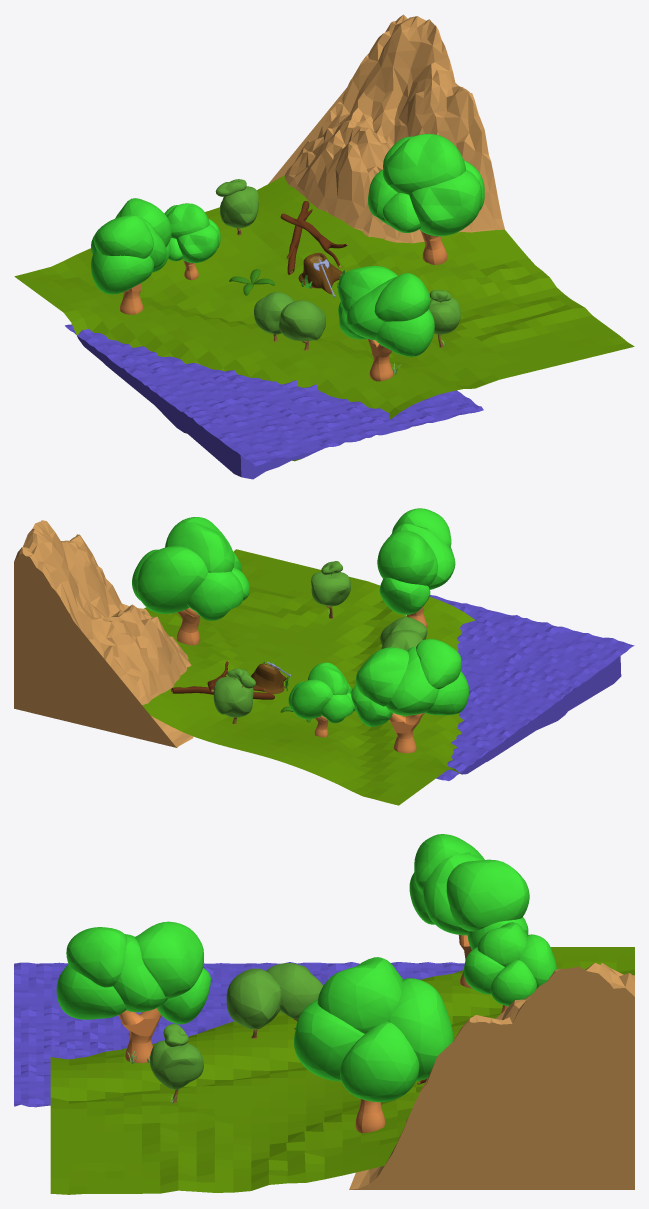
Rendered from scene_forest_1.fbx.
3 renders of one model, top to bottom at view 1: azimuth 30°, elevation 25°; view 2: azimuth 150°, elevation 25°; view 3: azimuth 270°, elevation 25°, orthographic. The views are drawn at different scales.
Visible parts, largest first — view 1: Water, Mounting_1, OakTree3.001, OakTree1.001, OakTree1, OakTree3, Bush_3, Bush_1, Bush_2, Bush_1.001, Log_3; view 2: Water, Mounting_1, OakTree3.001, OakTree1, OakTree1.001, OakTree3, Bush_3, Bush_2, Log_3, Bush_1, Bush_1.001, Log_1; view 3: Water, Mounting_1, OakTree3.001, OakTree1.001, OakTree1, OakTree3, Bush_1, Bush_2, Bush_1.001.
Boxes of the visible parts, x1,y1,x2,y2 form: Water: (14, 175, 634, 479); Mounting_1: (268, 14, 504, 243); OakTree3.001: (368, 134, 484, 264); OakTree1.001: (338, 266, 434, 381); OakTree1: (91, 198, 171, 314); OakTree3: (164, 203, 220, 280); Bush_3: (215, 179, 258, 235); Bush_1: (279, 300, 325, 350); Bush_2: (428, 290, 460, 347); Bush_1.001: (254, 292, 294, 341); Log_3: (298, 252, 342, 294); Water: (142, 549, 634, 805); Mounting_1: (14, 520, 193, 747); OakTree3.001: (132, 517, 249, 645); OakTree1: (351, 639, 469, 753); OakTree1.001: (377, 508, 455, 627); OakTree3: (288, 662, 355, 737); Bush_3: (213, 668, 255, 723); Bush_2: (311, 561, 350, 618); Log_3: (251, 663, 286, 693); Bush_1: (380, 617, 427, 645); Bush_1.001: (381, 630, 422, 650); Log_1: (171, 686, 274, 699); Water: (14, 947, 634, 1194); Mounting_1: (349, 963, 634, 1189); OakTree3.001: (294, 957, 453, 1133); OakTree1.001: (56, 921, 210, 1063); OakTree1: (409, 834, 529, 988); OakTree3: (463, 922, 556, 1013); Bush_1: (226, 968, 281, 1038); Bush_2: (150, 1023, 203, 1102); Bush_1.001: (266, 963, 323, 1029).
Size of the model in its own units: 1801 by 963 by 1913.
